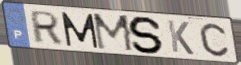C: (198, 21, 231, 58)
K: (166, 19, 196, 57)
M: (91, 12, 137, 54), (59, 11, 101, 49)
R: (30, 10, 64, 45)
S: (127, 15, 166, 55)
